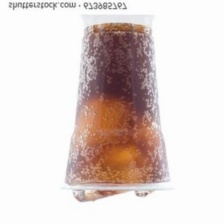glass: (57, 19, 181, 197)
